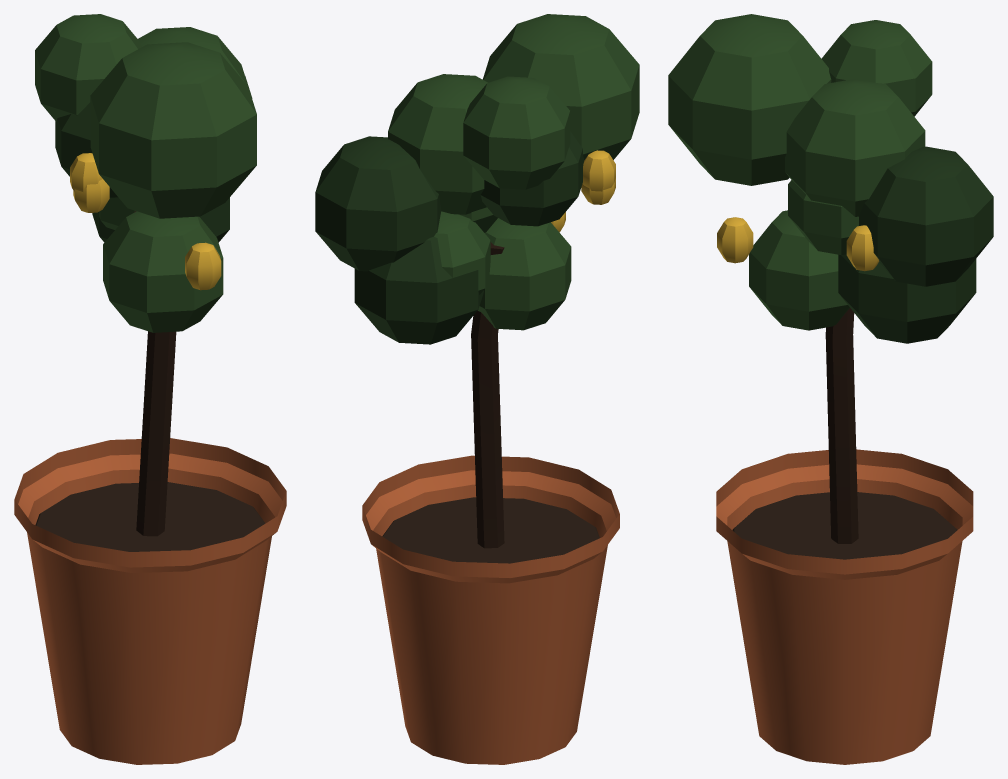
File: mae_pot_tree.glb
3 views of the same model, side by side, from view 1: azimuth 30°, elevation 25°; view 2: azimuth 150°, elevation 25°; view 3: azimuth 270°, elevation 25° (orthographic). The views are drawn at different scales.
Visible parts, largest first — view 1: mae_pot_tree; view 2: mae_pot_tree; view 3: mae_pot_tree.
Part boxes in pixels (bbox=[...]): mae_pot_tree: bbox=[14, 14, 286, 764]; mae_pot_tree: bbox=[315, 14, 639, 764]; mae_pot_tree: bbox=[668, 14, 993, 764].
Bounding box in the file's own units: 0.5177 × 1.4 × 0.5931.
